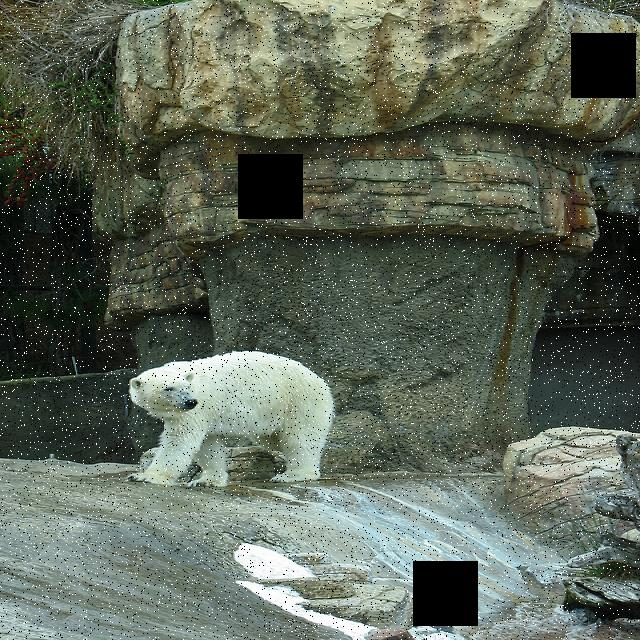Bear: (122, 349, 340, 486)
